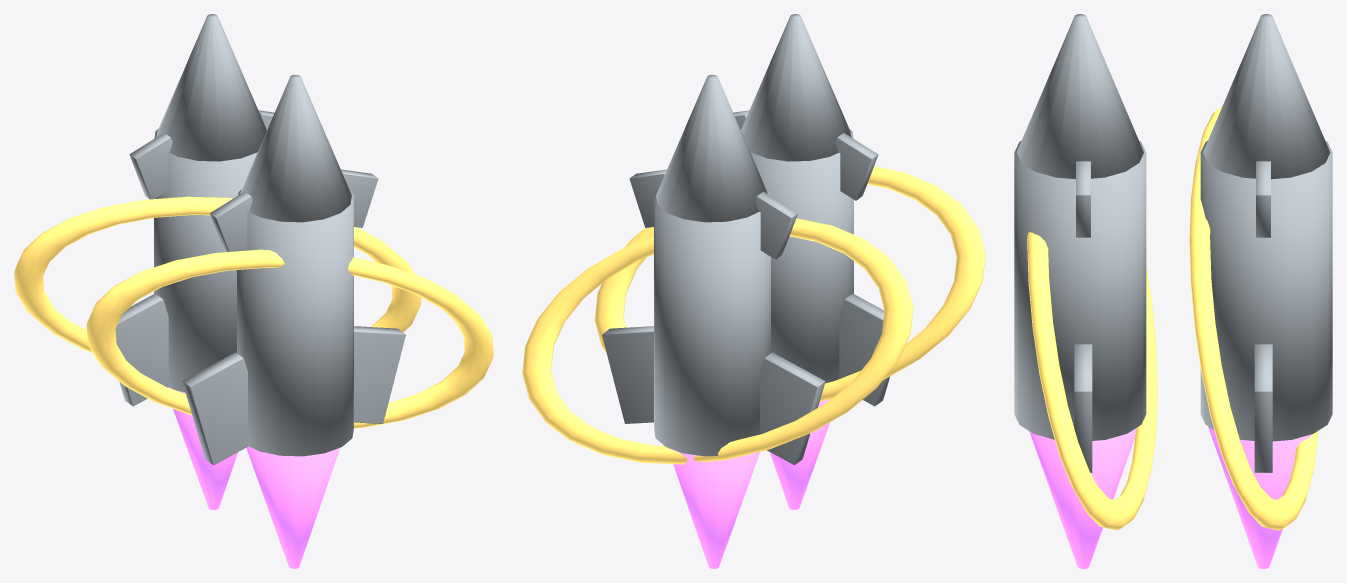
The model's file is hedgeguard_emblem_7.glb.
3 renders of one model, left to right at view 1: azimuth 30°, elevation 25°; view 2: azimuth 150°, elevation 25°; view 3: azimuth 270°, elevation 25°, orthographic. The views are drawn at different scales.
Visible parts, largest first — view 1: EmblemHouston; view 2: EmblemHouston; view 3: EmblemHouston.
Part boxes in pixels (x1,y1,x2,y2): EmblemHouston: [14, 14, 493, 568]; EmblemHouston: [522, 14, 985, 568]; EmblemHouston: [1014, 14, 1332, 568].
Bounding box in the file's own units: 0.8521 × 1.01 × 0.53.
